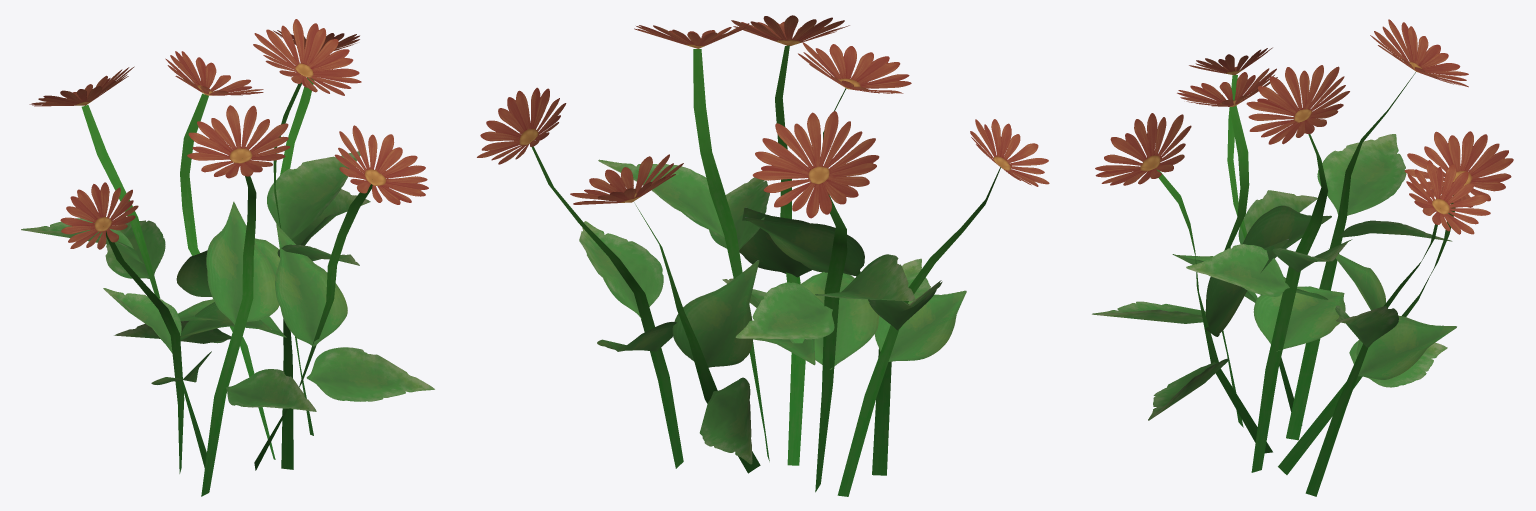
Rendered from MSH_fwOF_Flowers_02_A.fbx.
3 renders of one model, left to right at view 1: azimuth 30°, elevation 25°; view 2: azimuth 150°, elevation 25°; view 3: azimuth 270°, elevation 25°, orthographic. The views are drawn at different scales.
Visible parts, largest first — view 1: MSH_fwOF_Flowers_02_A; view 2: MSH_fwOF_Flowers_02_A; view 3: MSH_fwOF_Flowers_02_A.
Part boxes in pixels (bbox=[...]): MSH_fwOF_Flowers_02_A: bbox=[21, 19, 434, 496]; MSH_fwOF_Flowers_02_A: bbox=[477, 15, 1049, 496]; MSH_fwOF_Flowers_02_A: bbox=[1092, 19, 1513, 496].
Size of the model in its own units: 0.4037 by 0.3961 by 0.3799.
